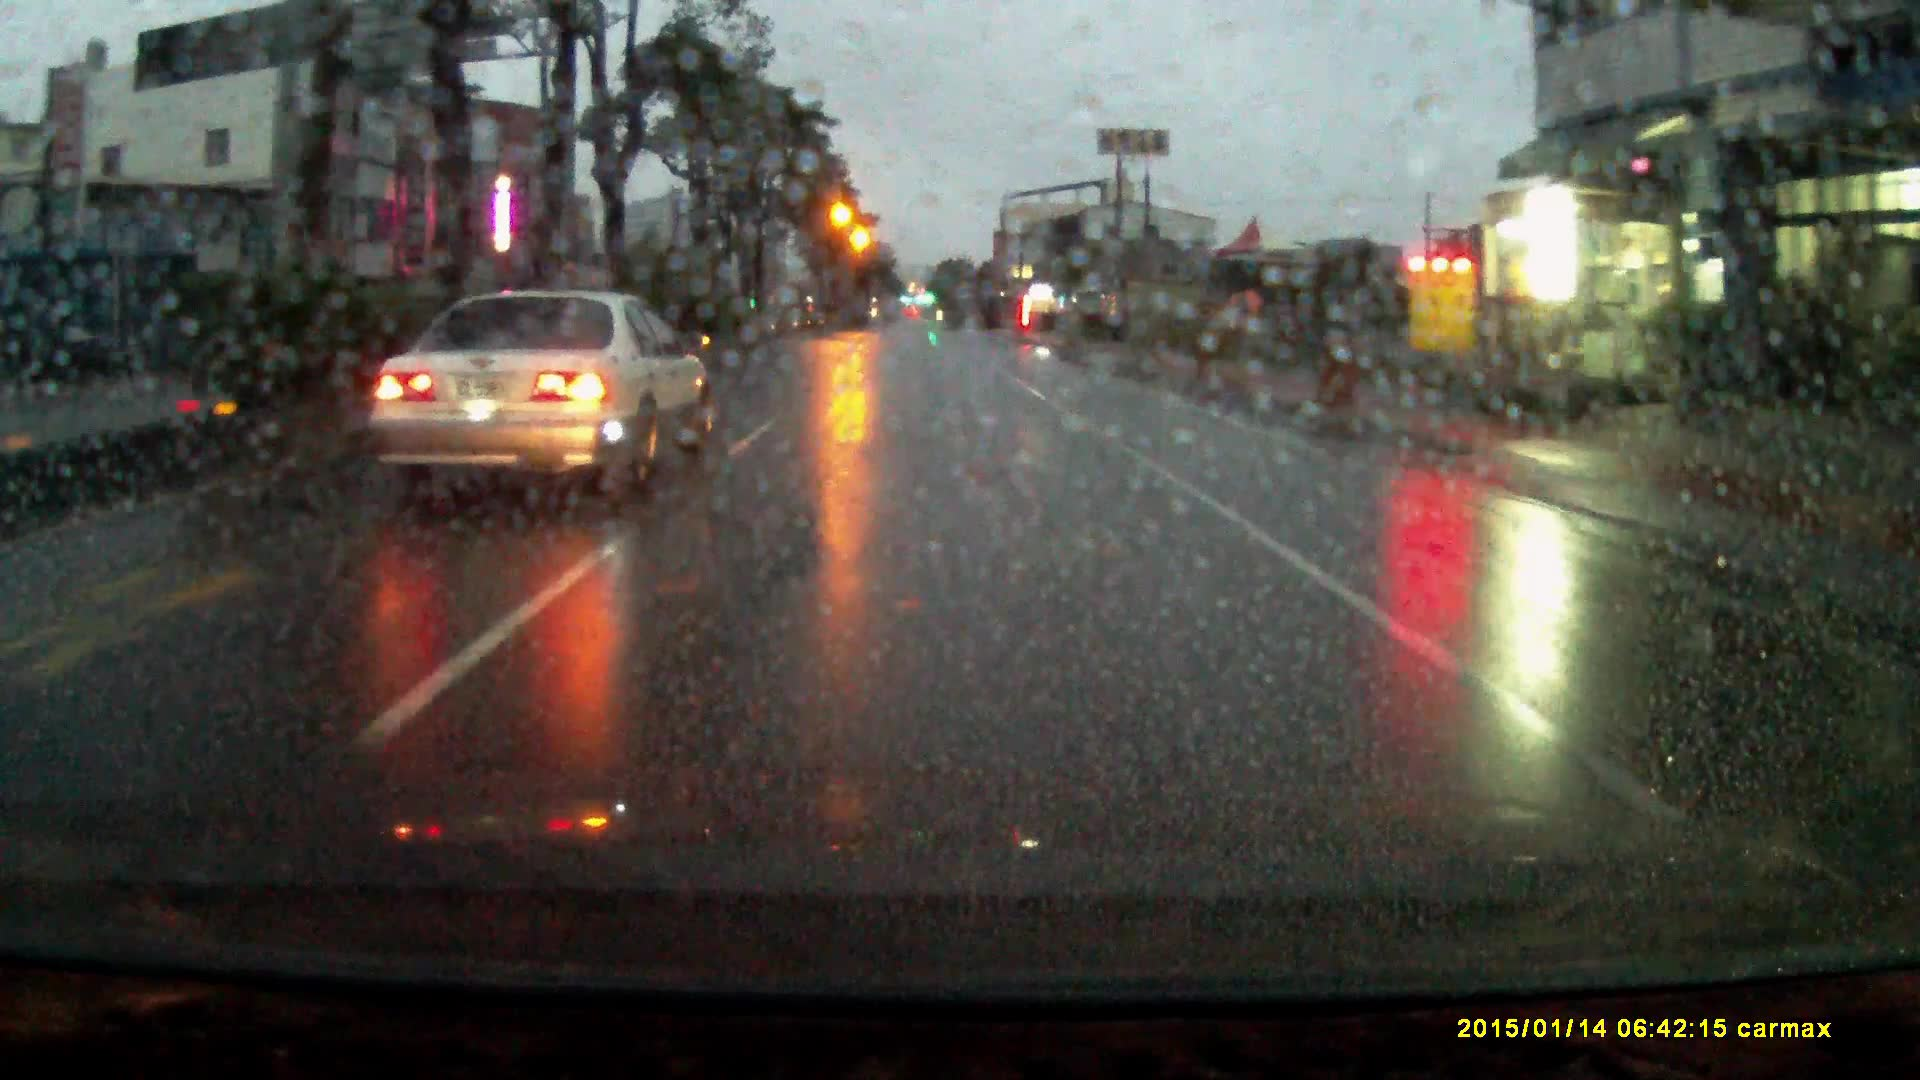vehicle: (363, 289, 716, 508)
